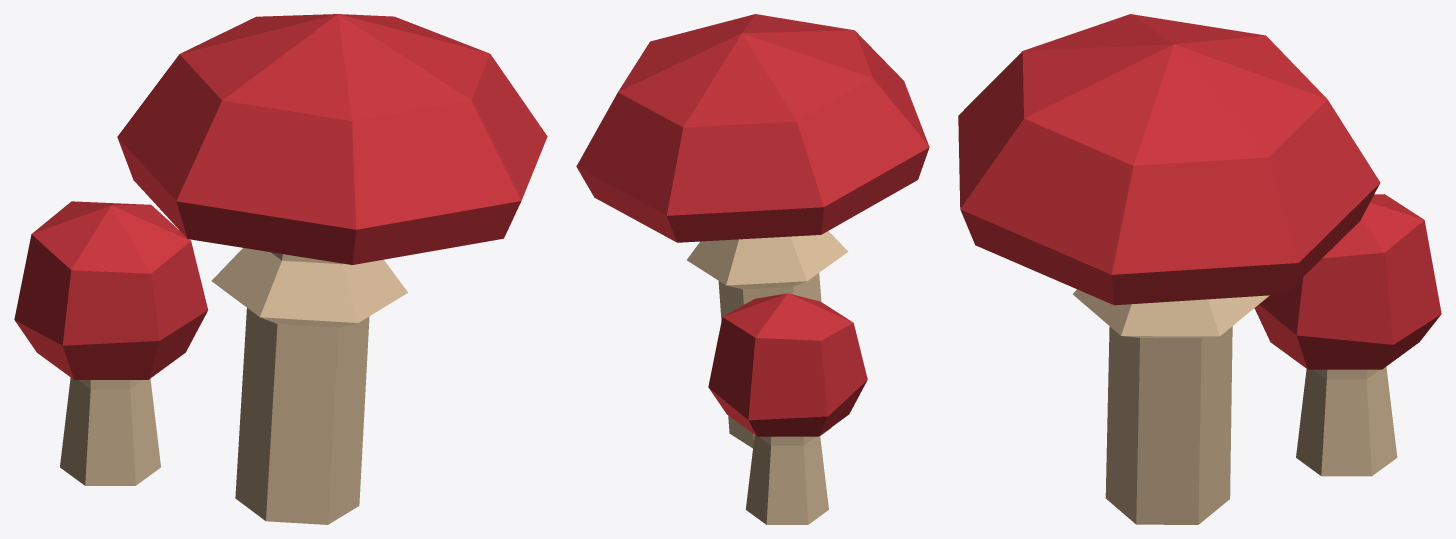
File: mushroom-toadstool.glb
3 views of the same model, side by side, from view 1: azimuth 30°, elevation 25°; view 2: azimuth 150°, elevation 25°; view 3: azimuth 270°, elevation 25° (orthographic). The views are drawn at different scales.
Visible parts, largest first — view 1: mushroom-toadstool; view 2: mushroom-toadstool; view 3: mushroom-toadstool.
Part boxes in pixels (x1,y1,x2,y2): mushroom-toadstool: [14, 14, 547, 524]; mushroom-toadstool: [576, 14, 929, 524]; mushroom-toadstool: [958, 14, 1441, 524].
Size of the model in its own units: 0.536 by 0.6285 by 0.5706.
1 material, 1 textured.
